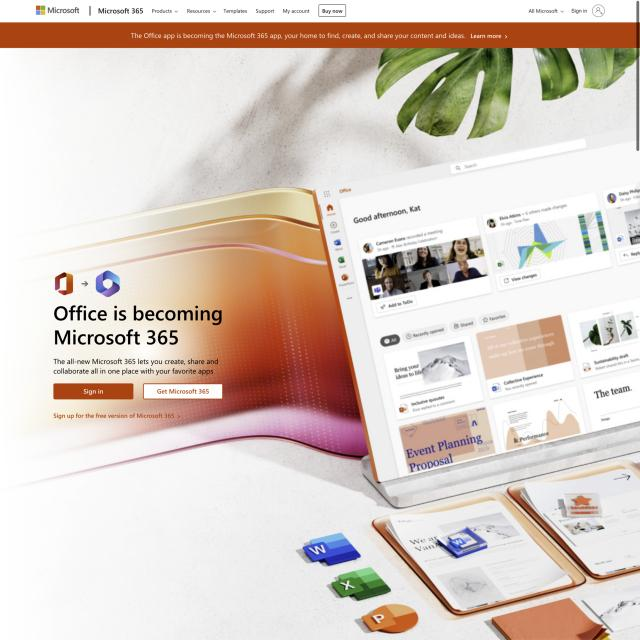logo: (33, 4, 82, 18)
navigation: (150, 4, 313, 17)
